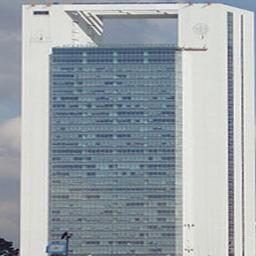building: (18, 0, 219, 256)
